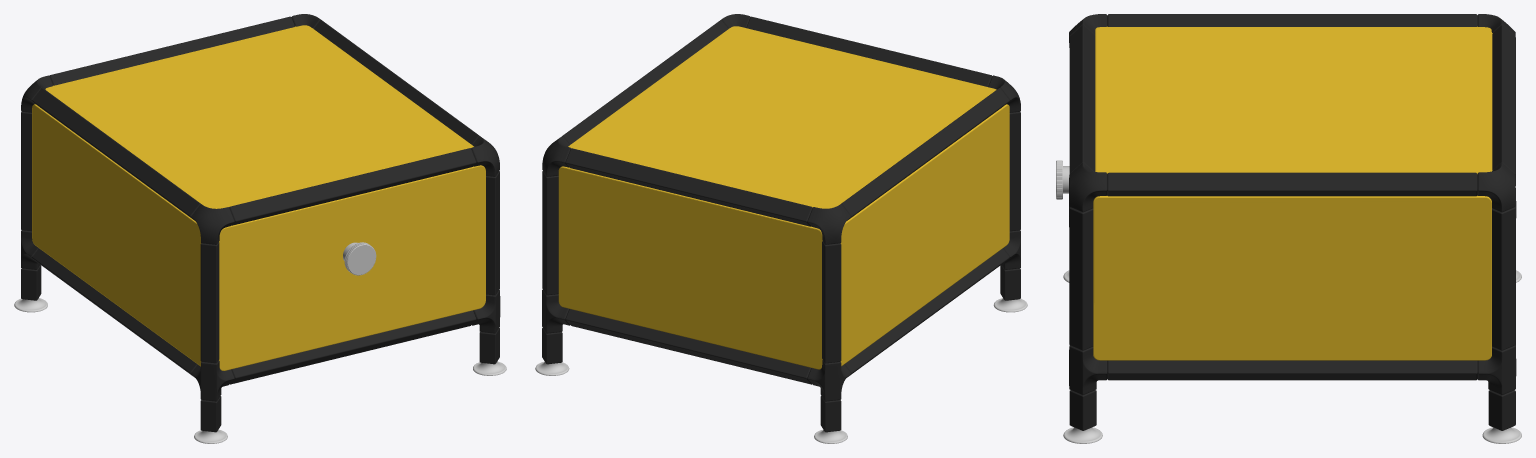
3 renders of one model, left to right at view 1: azimuth 30°, elevation 25°; view 2: azimuth 150°, elevation 25°; view 3: azimuth 270°, elevation 25°, orthographic. The views are drawn at different scales.
Visible parts, largest first — view 1: 329x374x154; view 2: 329x374x154; view 3: 329x374x154.
Part boxes in pixels (box(x1,y1,x2,y2)): 329x374x154: box(14, 14, 506, 443); 329x374x154: box(535, 14, 1027, 443); 329x374x154: box(1056, 14, 1521, 443).
Size of the model in its own units: 0.4189 by 0.2933 by 0.4707.
